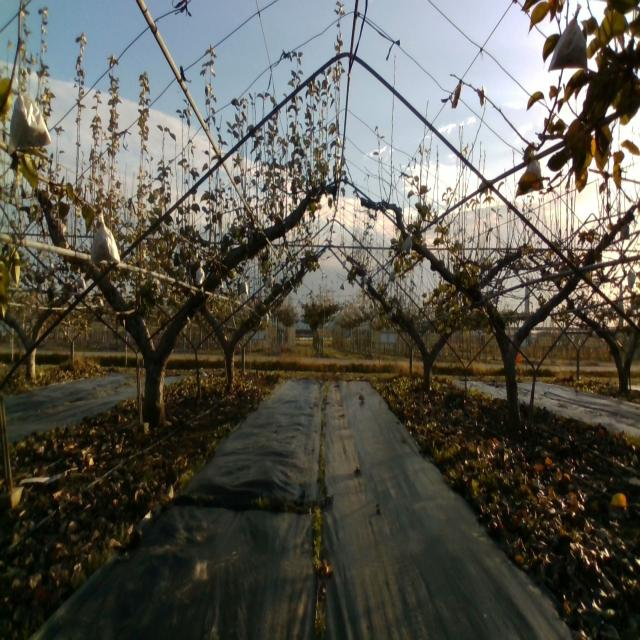pearbags: (8, 82, 52, 154), (548, 4, 588, 75), (90, 210, 120, 268), (522, 156, 544, 189), (400, 234, 413, 256)
